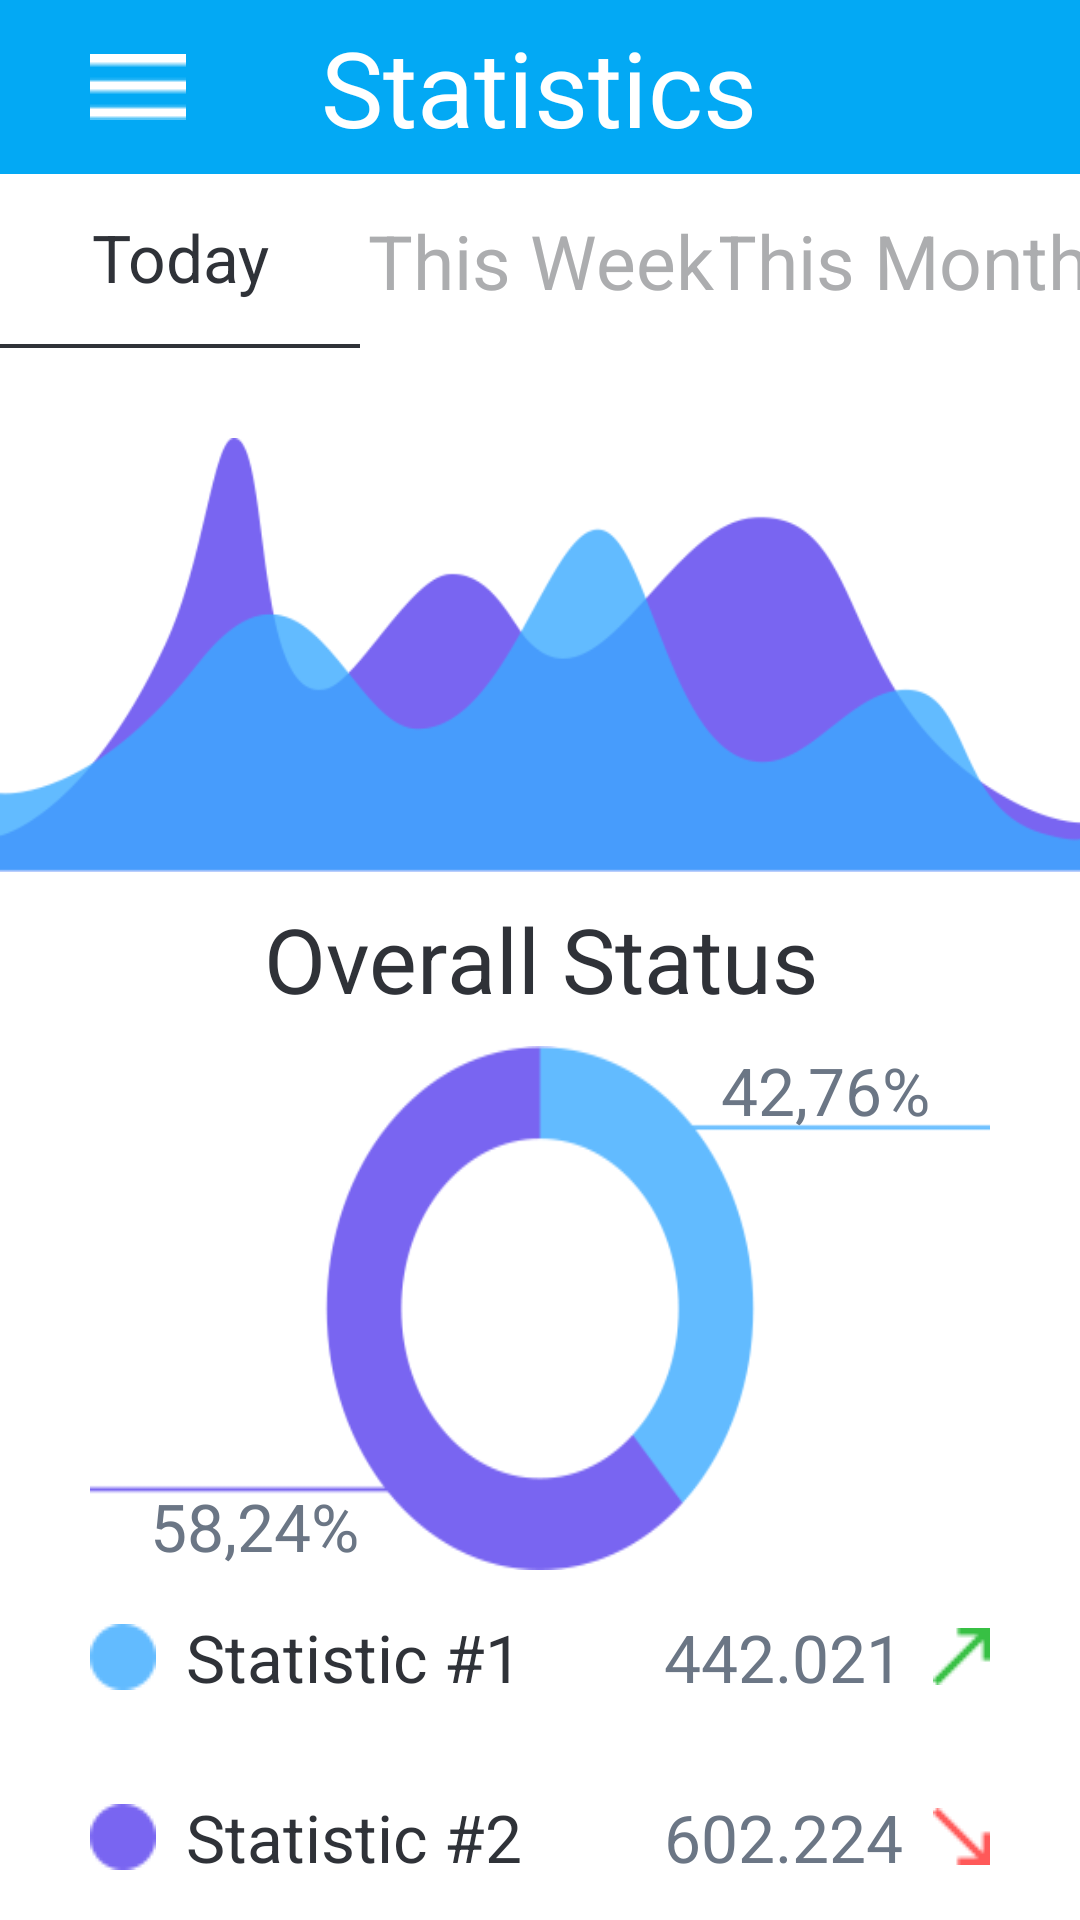

Named icons in this screenshot (1080 × 1920) and their bounding boxes, bbox=[x1, y1, x2, y2]:
menu: bbox=[90, 54, 186, 120]
